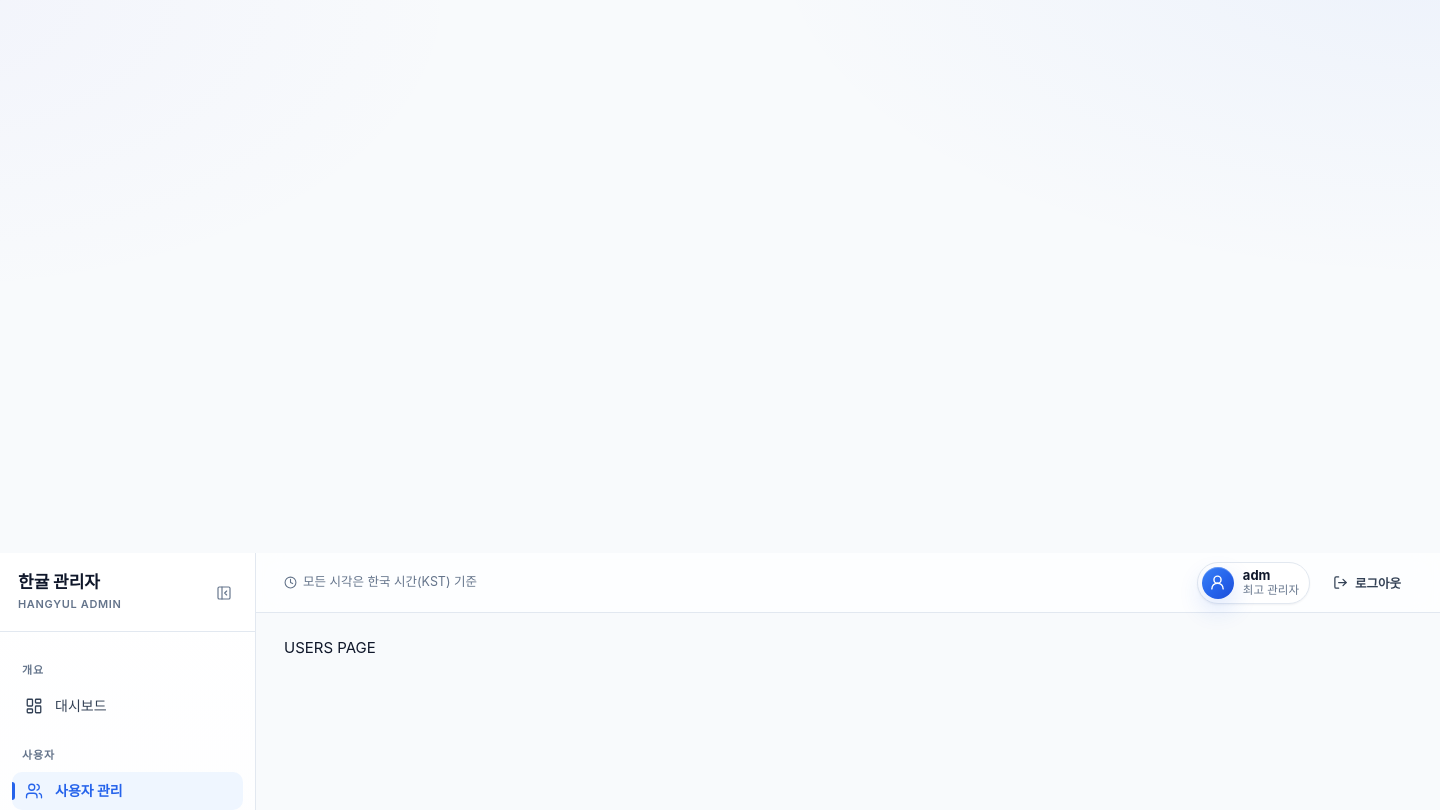
admin sidebar groups › shows every item in the icon rail, folded or not
(page scrolled)
Click the button named "사이드바 접기".
click(224, 593)  # box left=211, top=580, right=237, bottom=606
(page scrolled)
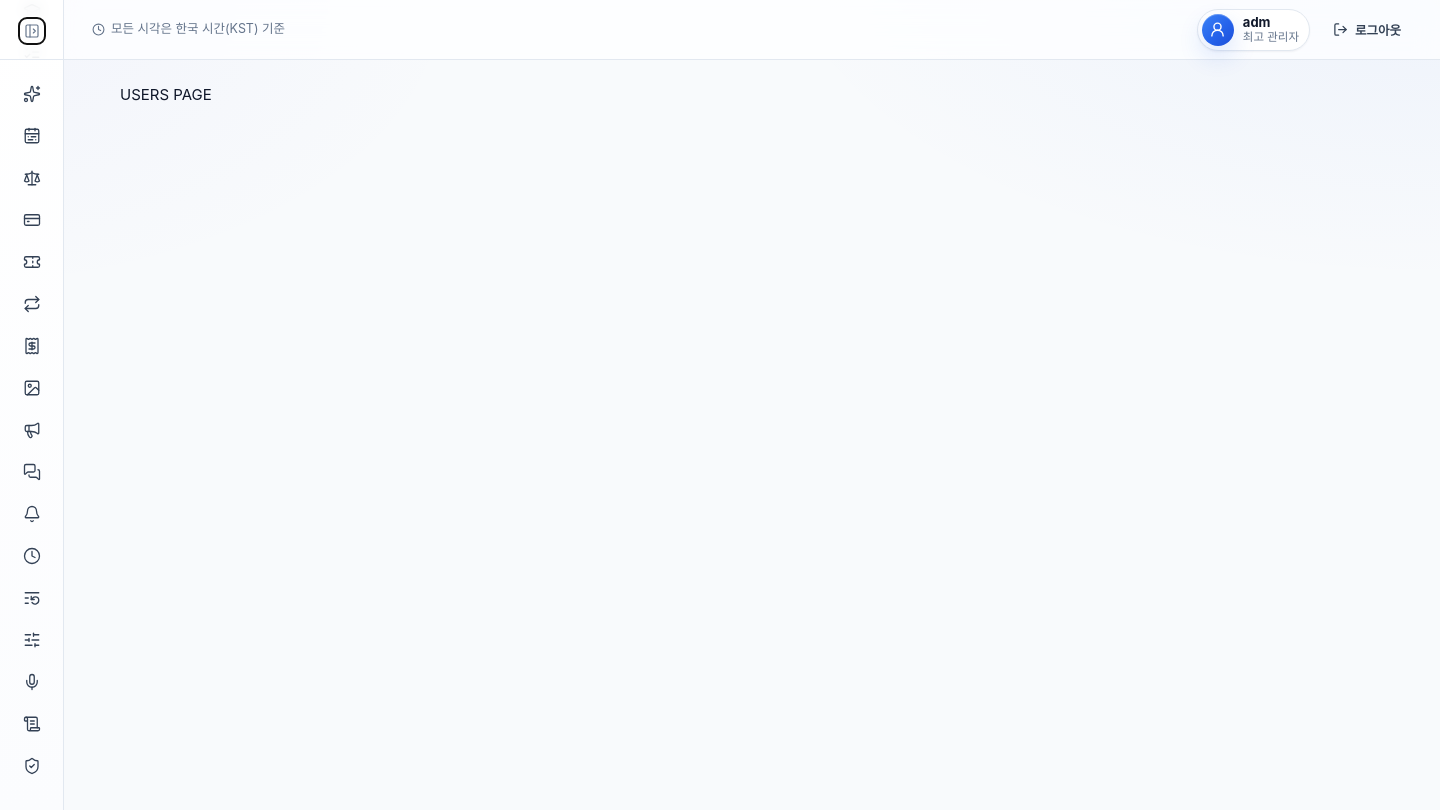
Now the link named "공지" is shown, box left=22, top=421, right=40, bottom=439
